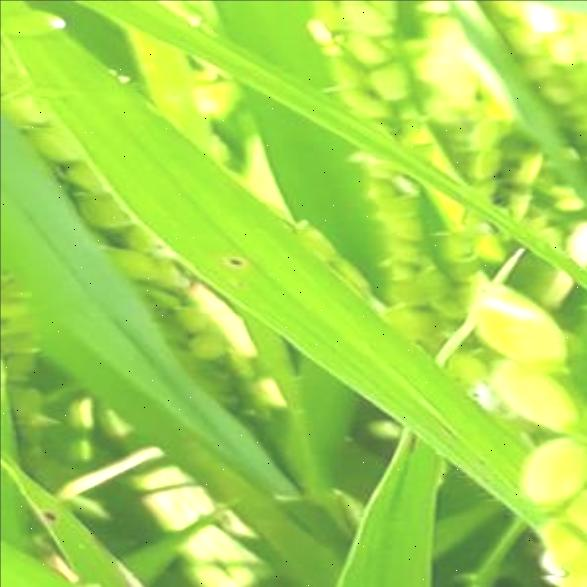Brown_Spot: (217, 250, 247, 270), (35, 502, 61, 524), (474, 452, 488, 466)
